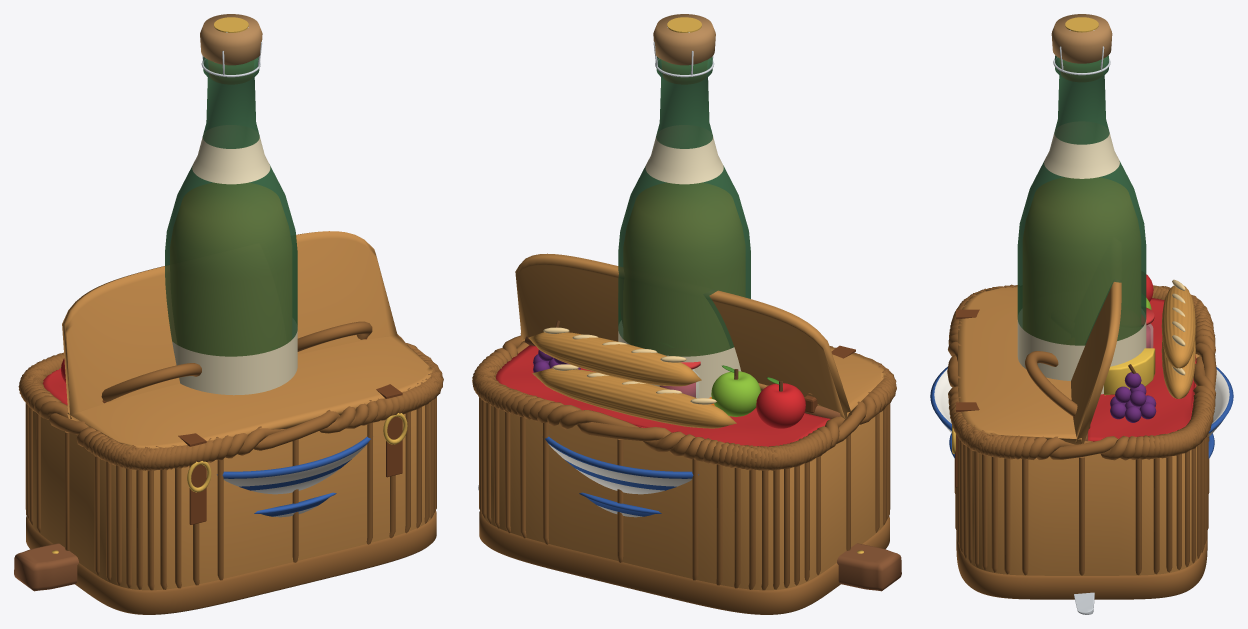
File: props.glb
3 renders of one model, left to right at view 1: azimuth 30°, elevation 25°; view 2: azimuth 150°, elevation 25°; view 3: azimuth 270°, elevation 25°, orthographic. The views are drawn at different scales.
Visible parts, largest first — view 1: basket, bottle, bowl, knife, fruit_salad; view 2: basket, bottle, bowl, knife, fruit_salad; view 3: basket, bottle, bowl.
Part boxes in pixels (box(x1,y1,x2,y2)): basket: box(18, 231, 443, 614); bottle: box(165, 14, 297, 395); bowl: box(217, 436, 370, 494); knife: box(14, 543, 78, 591); fruit_salad: box(254, 492, 336, 517); basket: box(472, 253, 896, 614); bottle: box(618, 14, 750, 398); bowl: box(545, 397, 714, 494); knife: box(478, 485, 901, 591); fruit_salad: box(579, 492, 661, 517); basket: box(947, 274, 1216, 599); bottle: box(1017, 14, 1146, 394); bowl: box(930, 366, 1233, 437).
Bounding box in the file's own units: 126 × 151 × 83.
